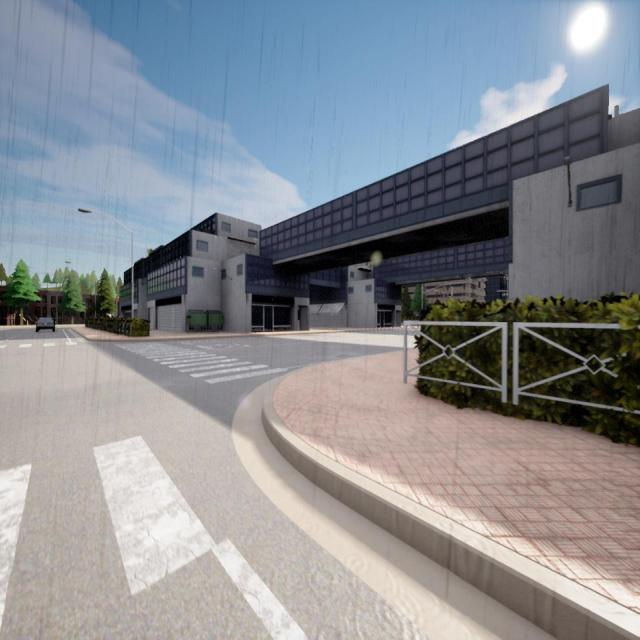Vehicle: (36, 316, 55, 332)
